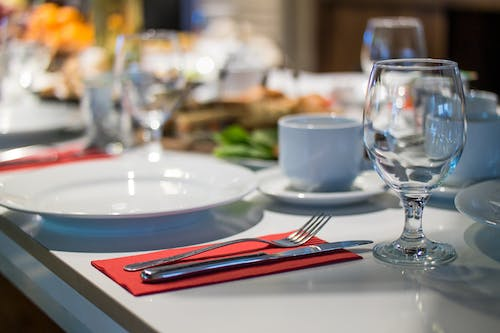knife: (138, 238, 375, 284)
